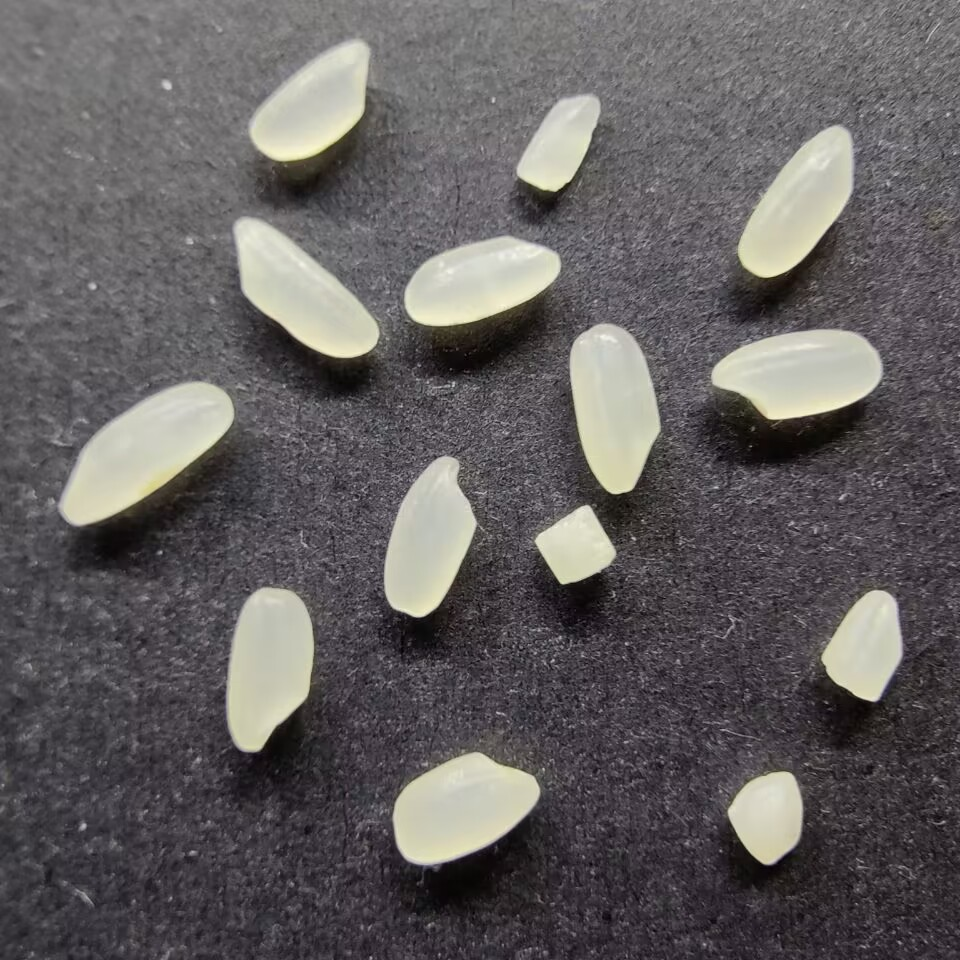broken: (819, 589, 905, 704), (514, 92, 602, 192), (723, 770, 805, 867), (532, 500, 618, 589)
rice: (57, 379, 235, 529), (231, 210, 381, 359), (736, 123, 856, 279), (393, 751, 541, 868), (380, 452, 480, 618), (569, 319, 663, 495), (708, 330, 884, 420), (247, 37, 370, 164), (226, 585, 316, 755), (402, 233, 563, 328)
